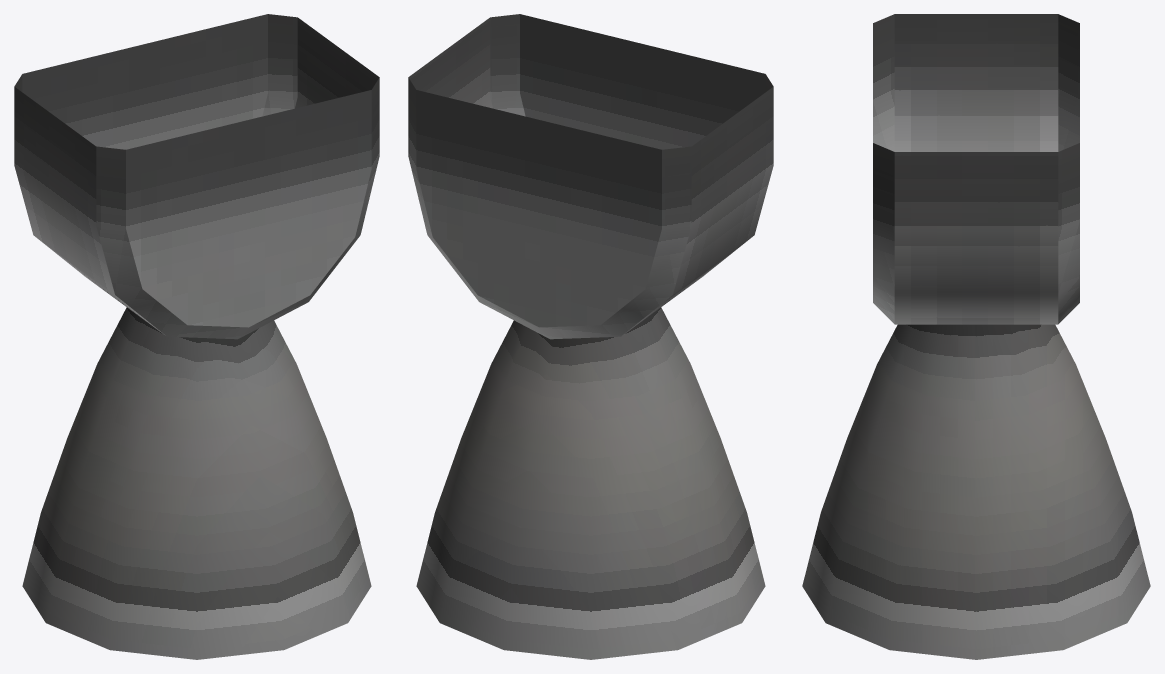
Rendered from CLV_2_Engine_1_Vernier.obj.
The picture shows the model from 3 angles, left to right: view 1: azimuth 30°, elevation 25°; view 2: azimuth 150°, elevation 25°; view 3: azimuth 270°, elevation 25°; orthographic projection.
Visible parts, largest first — view 1: CLV_2_Engine_1_Vernier; view 2: CLV_2_Engine_1_Vernier; view 3: CLV_2_Engine_1_Vernier.
Part boxes in pixels (x1,y1,x2,y2): CLV_2_Engine_1_Vernier: (14,14,379,659); CLV_2_Engine_1_Vernier: (408,14,773,659); CLV_2_Engine_1_Vernier: (802,14,1150,659).
Bounding box in the file's own units: 0.1 × 0.1594 × 0.1.
